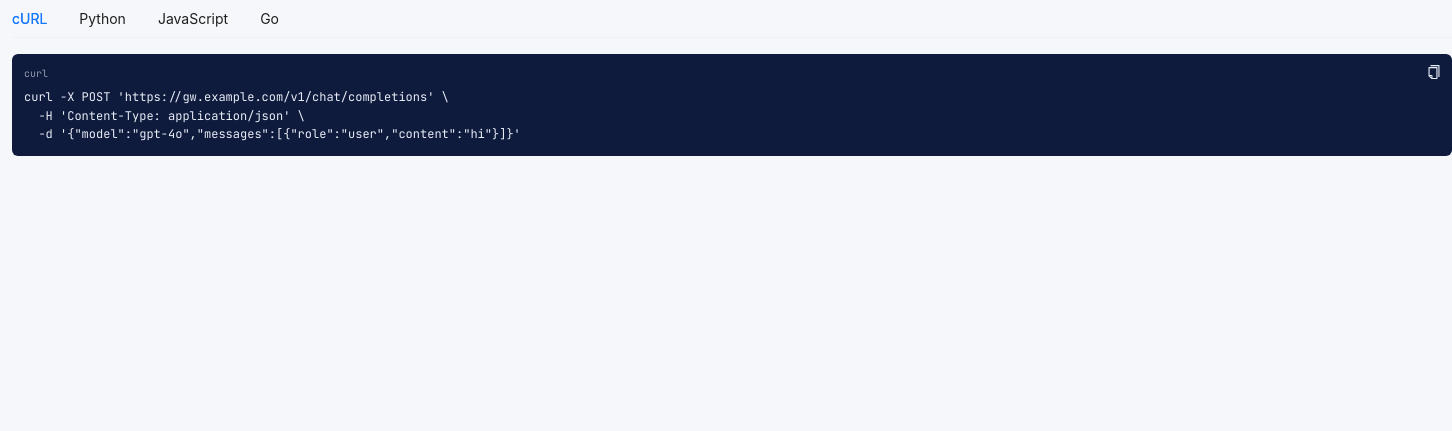
Test: CodeSnippet › switches active tab and updates visible code
This screenshot has width=1452, height=431.
Expected: the text "curl -X POST" is shown, [24,89,521,142]
// 切到 Python
Step 1. Click the tab "Python" → coordinates (103, 19), box [79,8,126,30]
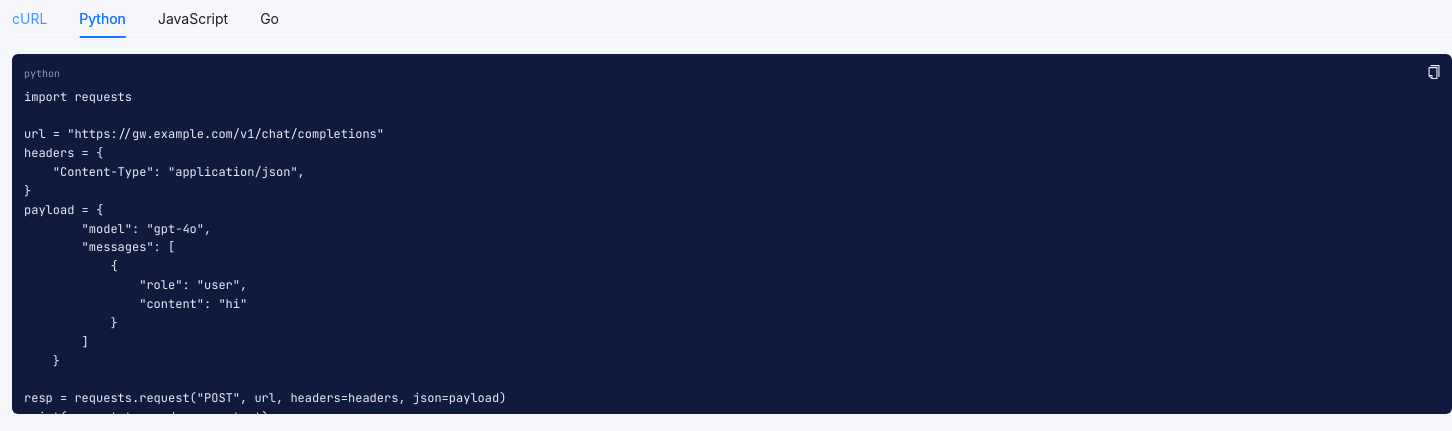
Expected: the text "requests.request(" is shown, [24,89,506,414]
